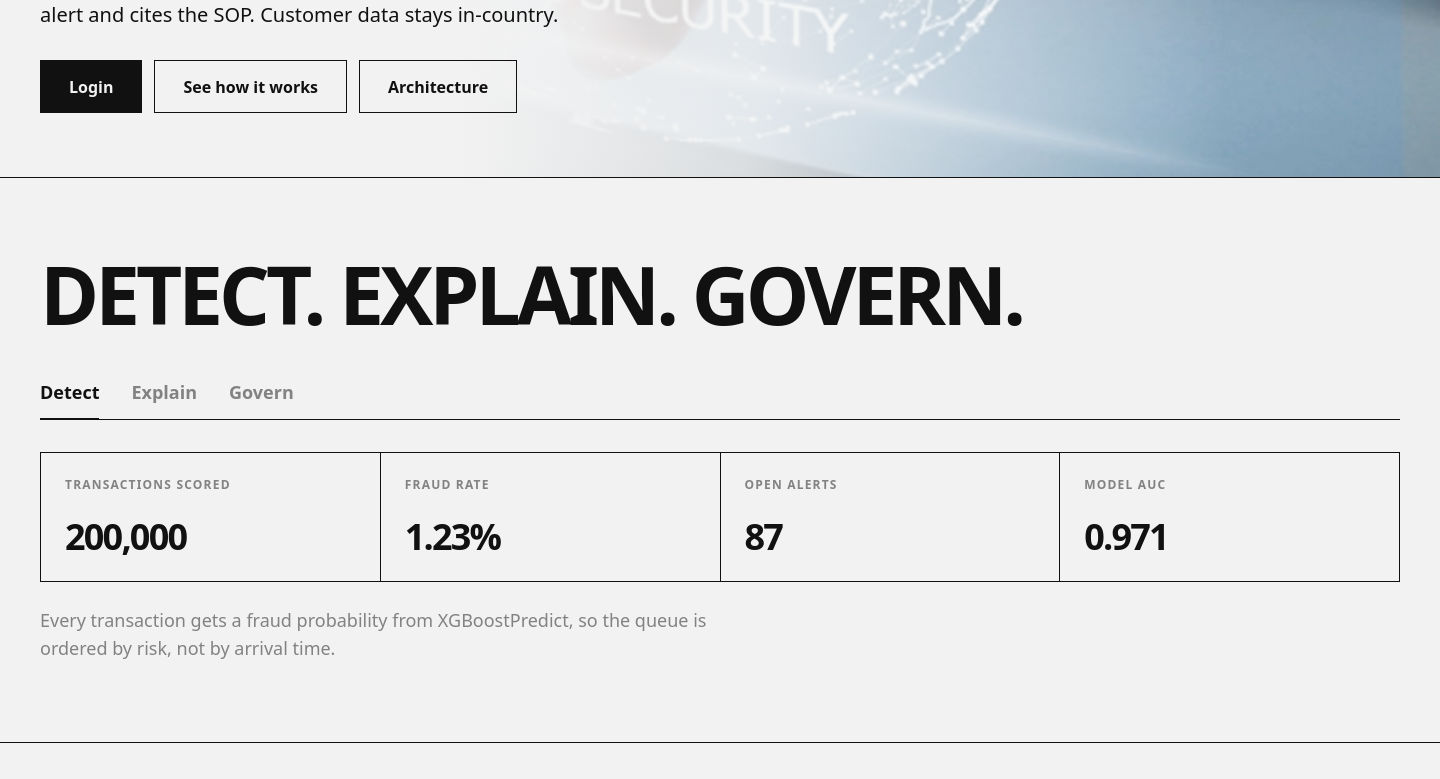
switches between Detect, Explain and Govern with live data
(page scrolled)
Expected: the text "200,000" is shown, [65,512,186,561]
Expected: the text "0.971" is shown, [1084,512,1168,561]
Click the tab "Explain".
click(164, 399)  # box [132,378,197,420]
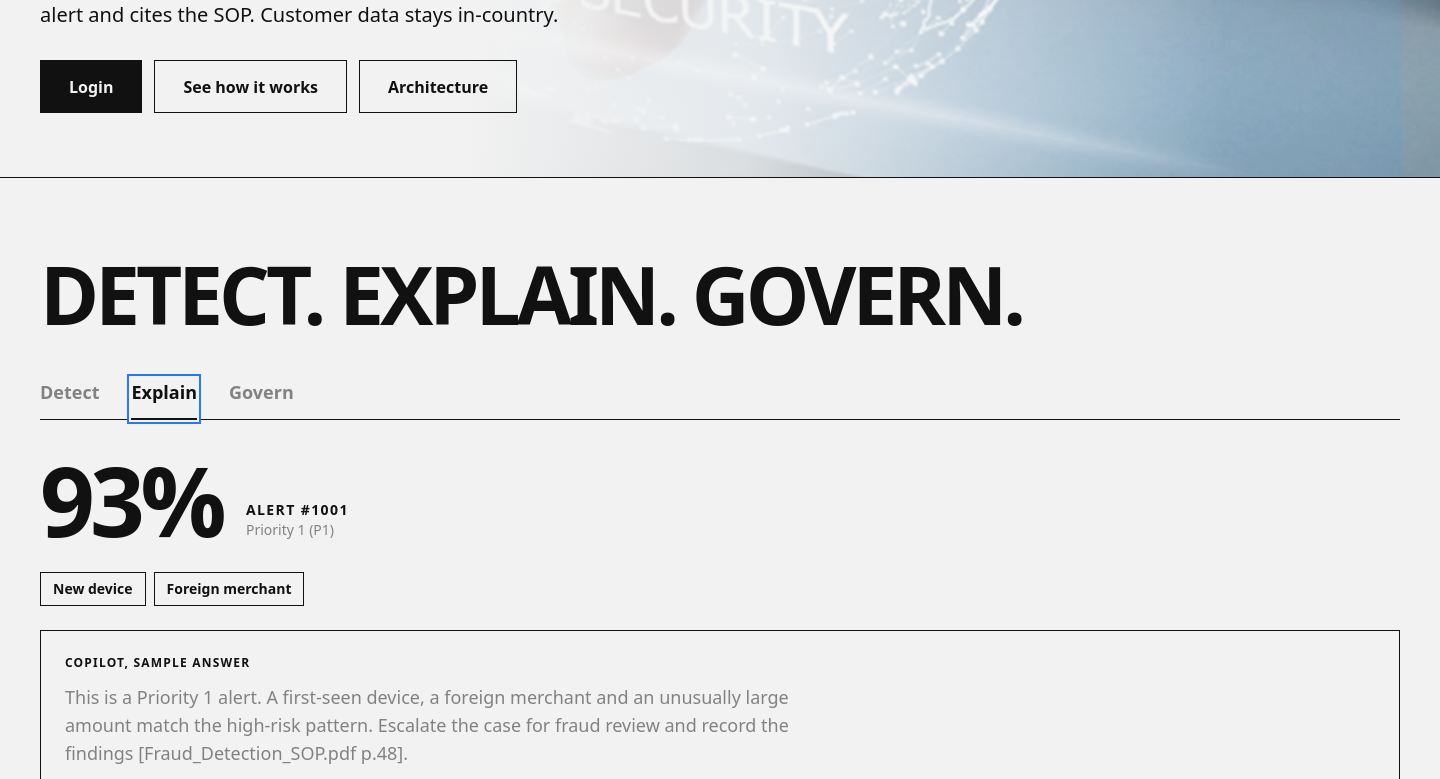
Now the list item "New device" is shown, box [40,572,146,606]
Now the list item "Foreign merchant" is shown, box [154,572,304,606]
Now the text "93%" is shown, box [40,452,222,548]
Click the tab "Govern".
click(261, 399)  # box [229,378,294,420]
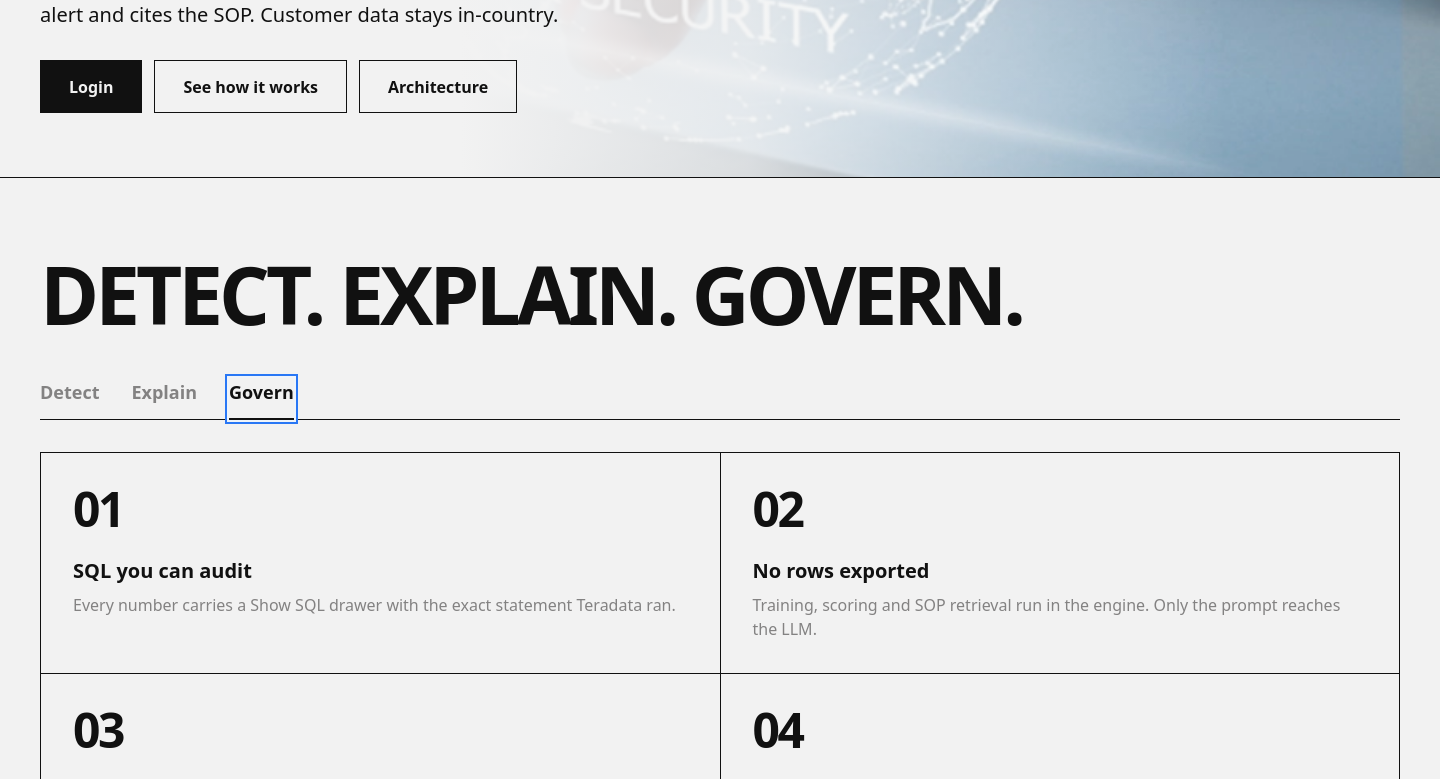
Now the text "No rows exported" is shown, box [752,557,930,584]
Now the text "SQL you can audit" is shown, box [73,557,252,584]
